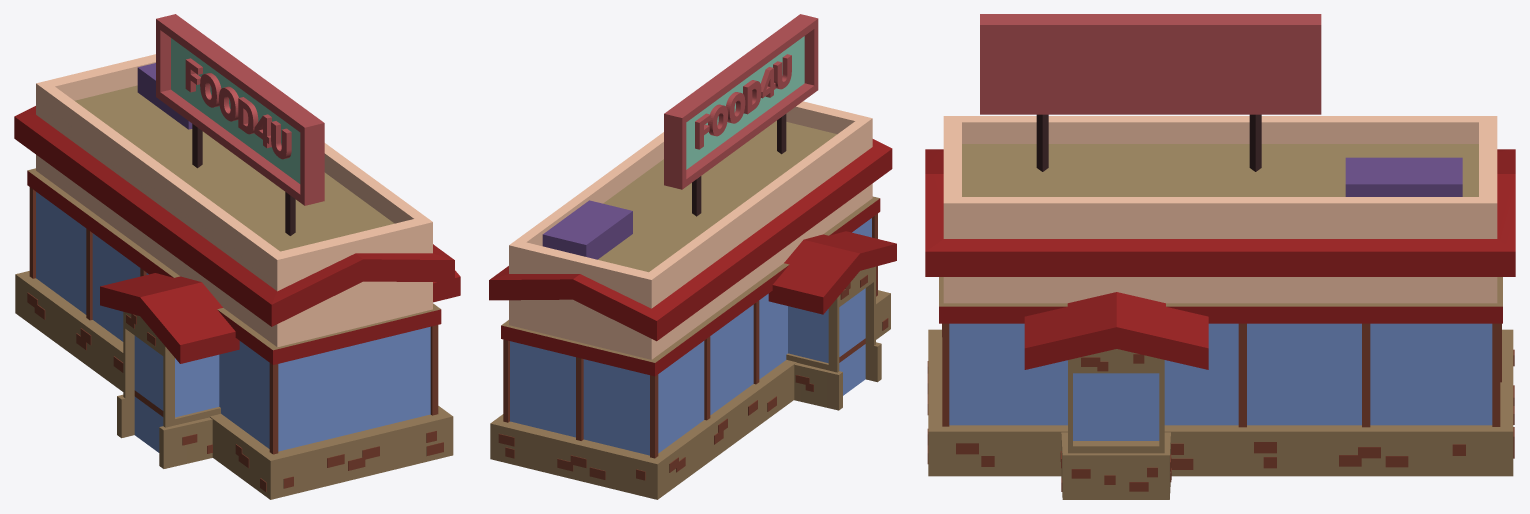
Rendered from Target_Building_10.FBX.
3 views of the same model, side by side, from view 1: azimuth 30°, elevation 25°; view 2: azimuth 150°, elevation 25°; view 3: azimuth 270°, elevation 25° (orthographic). The views are drawn at different scales.
Visible parts, largest first — view 1: Object005; view 2: Object005; view 3: Object005.
Boxes of the visible parts, box(x1,y1,x2,y2) form: Object005: box(14, 14, 460, 499); Object005: box(489, 14, 896, 499); Object005: box(925, 14, 1515, 499).
Size of the model in its own units: 144 by 168 by 229.
